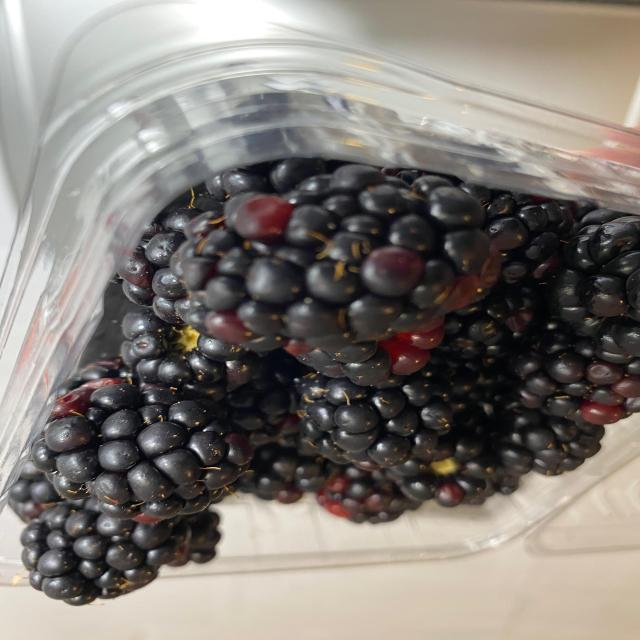blackberries: (13, 158, 631, 602)
